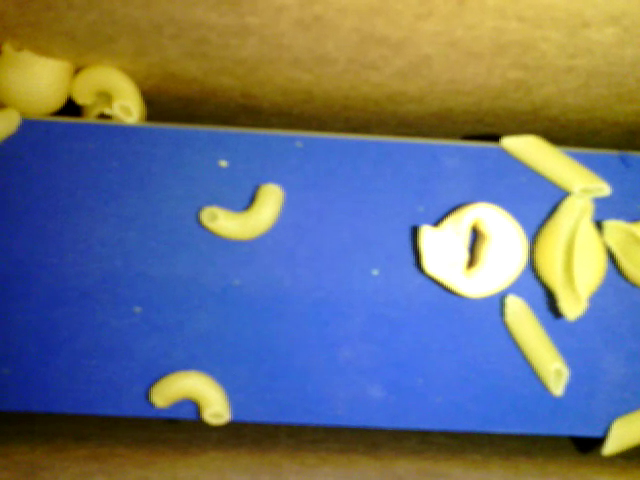elbow: (198, 182, 285, 239), (150, 370, 230, 425), (69, 64, 140, 121)
penne: (500, 134, 610, 197), (505, 293, 571, 396), (603, 410, 639, 455)
shell: (534, 194, 607, 322), (1, 43, 72, 114), (601, 219, 639, 286), (82, 92, 147, 125)
tortellini: (416, 201, 529, 298)
